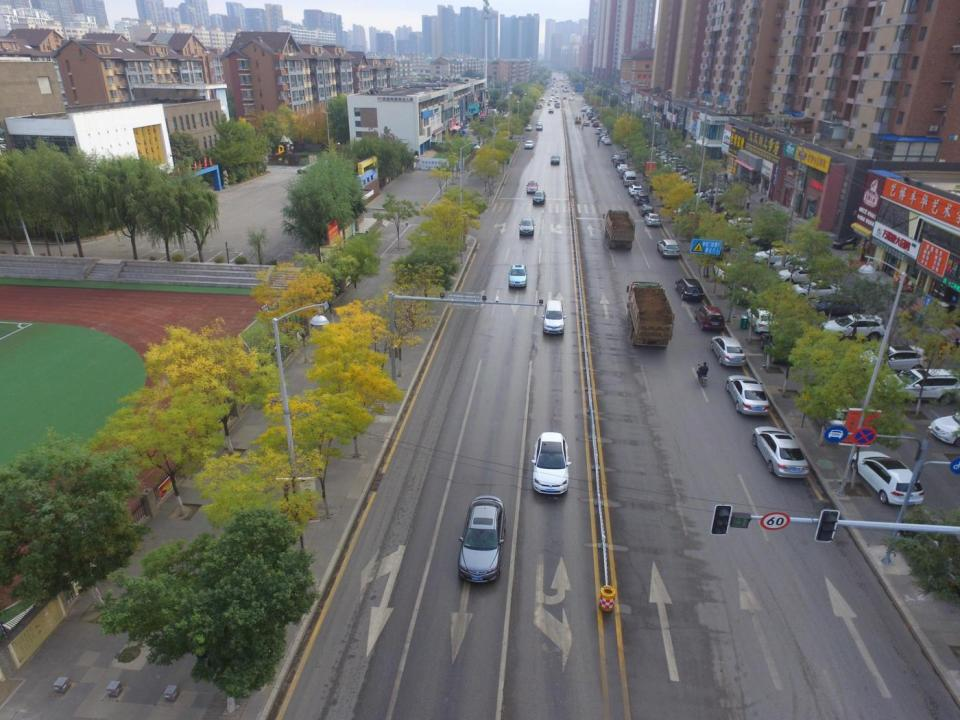car: (457, 493, 507, 586), (852, 450, 924, 506), (754, 426, 809, 481), (878, 369, 958, 406), (852, 346, 925, 382), (531, 431, 570, 497), (818, 314, 889, 344), (727, 374, 771, 417), (810, 294, 866, 318), (748, 303, 784, 335), (792, 281, 843, 302), (712, 336, 745, 368), (929, 413, 960, 446), (779, 268, 832, 287), (542, 298, 567, 338), (773, 258, 821, 278), (694, 304, 724, 332), (728, 280, 760, 306), (754, 248, 800, 266), (675, 278, 704, 302), (833, 235, 873, 250), (746, 237, 786, 251), (712, 262, 740, 282), (740, 227, 777, 241), (508, 263, 527, 289), (656, 240, 680, 259), (730, 216, 758, 232), (710, 203, 744, 215), (720, 210, 749, 224), (695, 189, 726, 202), (706, 197, 736, 208), (519, 216, 534, 236), (644, 212, 662, 227), (533, 190, 546, 207), (634, 192, 648, 206), (639, 204, 654, 217), (629, 184, 642, 196), (526, 181, 538, 193), (550, 155, 560, 167), (613, 159, 625, 168), (620, 168, 629, 178), (617, 164, 628, 172), (525, 140, 534, 149), (611, 154, 621, 162), (604, 138, 612, 146), (599, 132, 606, 140), (536, 123, 543, 131), (601, 136, 609, 142), (591, 117, 597, 124), (596, 127, 602, 134), (525, 125, 532, 131), (535, 104, 542, 110), (584, 120, 590, 126), (548, 108, 553, 114), (537, 120, 542, 125), (580, 107, 586, 111), (546, 102, 552, 106), (569, 97, 575, 101), (540, 98, 544, 102), (556, 95, 560, 99), (549, 98, 553, 101), (554, 99, 558, 102), (563, 96, 566, 99)
truck: (626, 281, 673, 348), (603, 209, 634, 252), (554, 102, 560, 109), (576, 116, 581, 124)
van: (623, 171, 636, 187)
